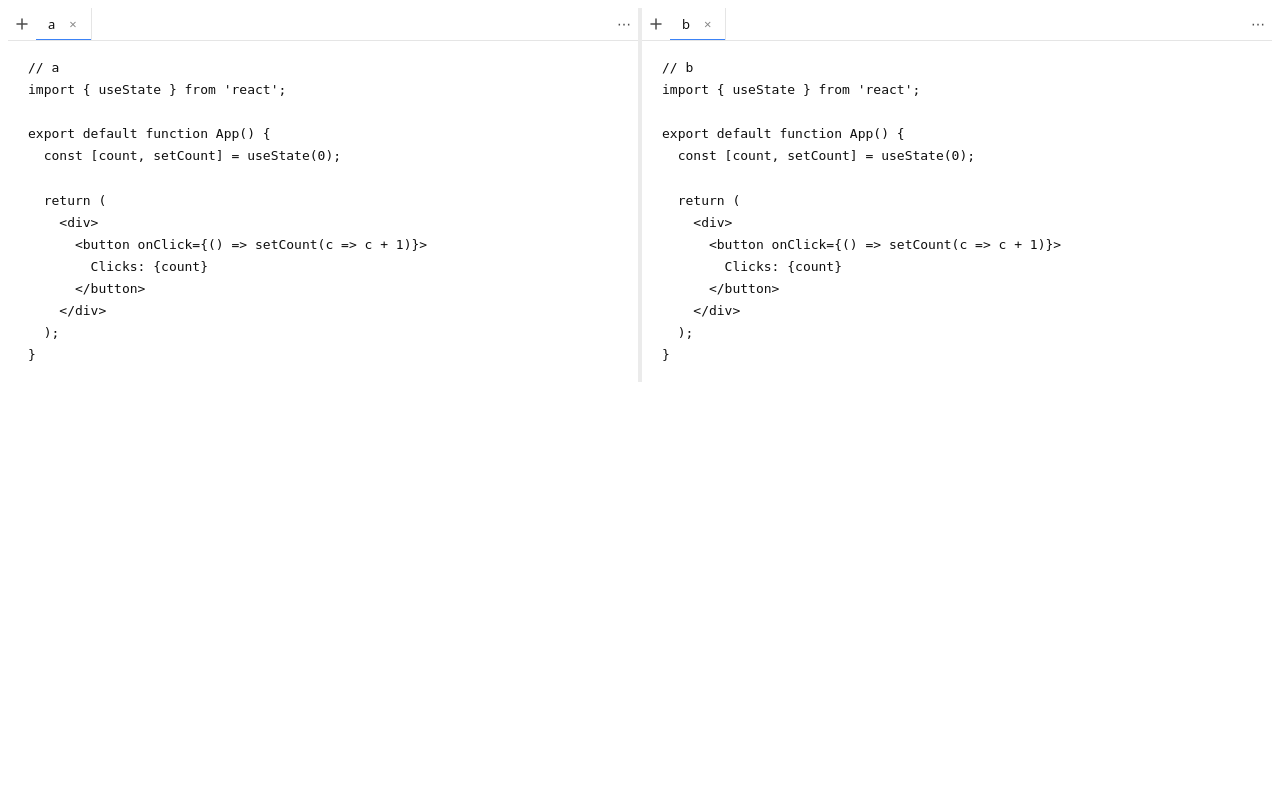
Test: LayoutProvider + LayoutRoot › end-to-end: clicking Maximize in the scaffold actions menu opens the overlay
This screenshot has width=1280, height=800.
Click the button named "Panel actions".
click(1258, 24)  # box [1244,10,1272,38]
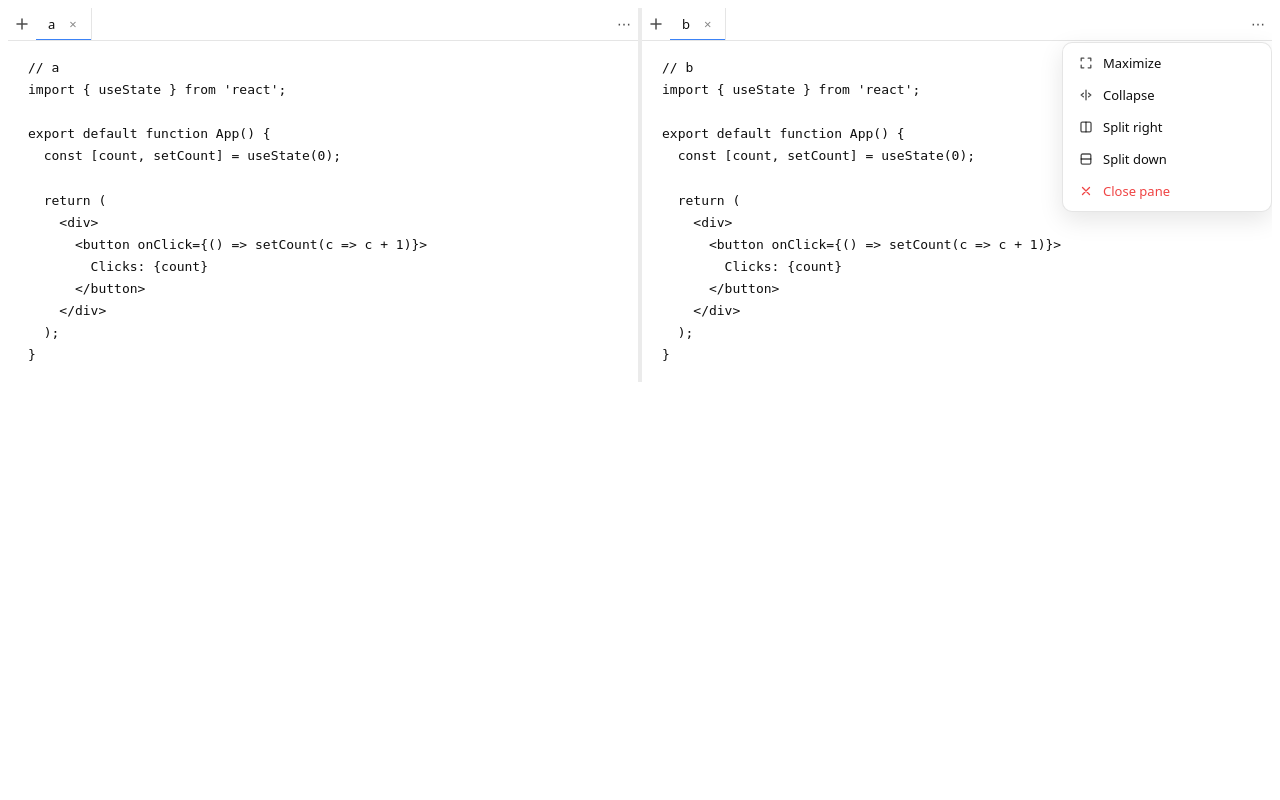
Click the menu item "Maximize".
click(1167, 63)  # box [1067,47,1267,79]
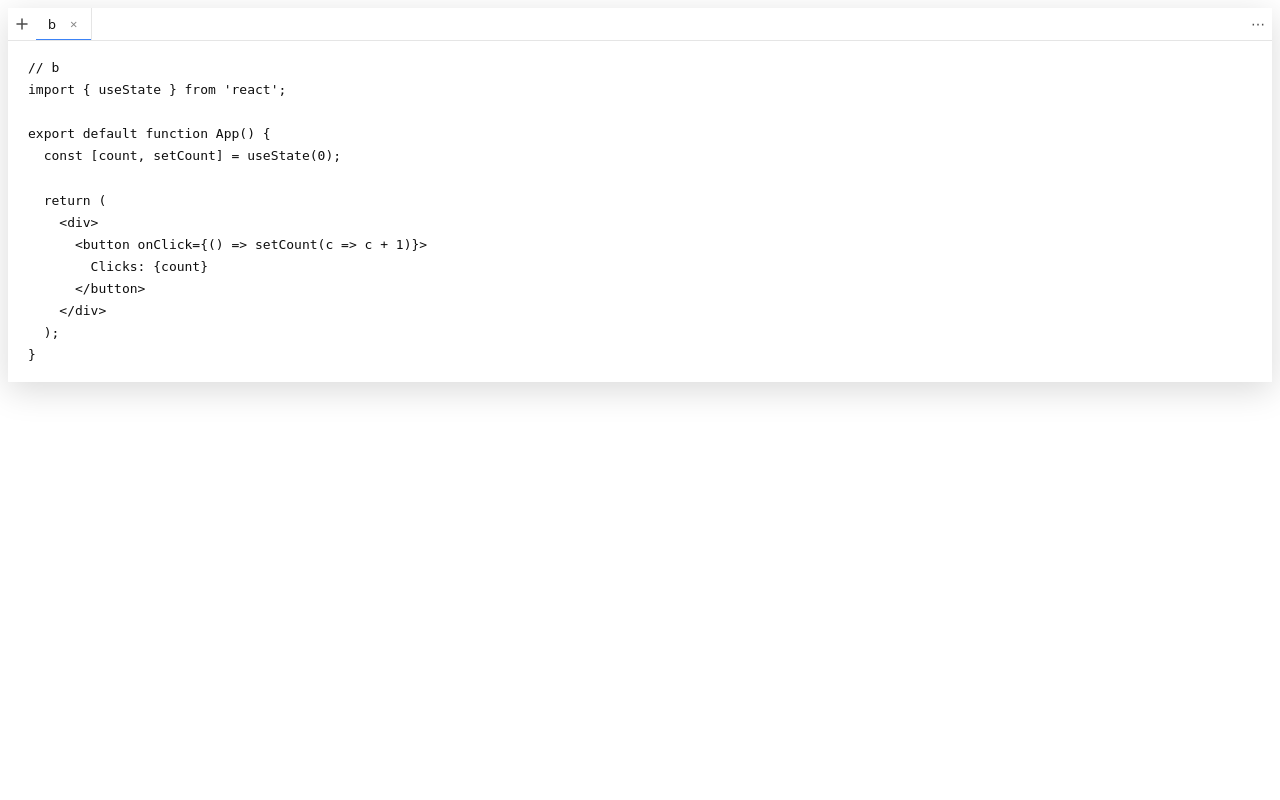
Result: the dialog is shown at [8,8,1272,382]
